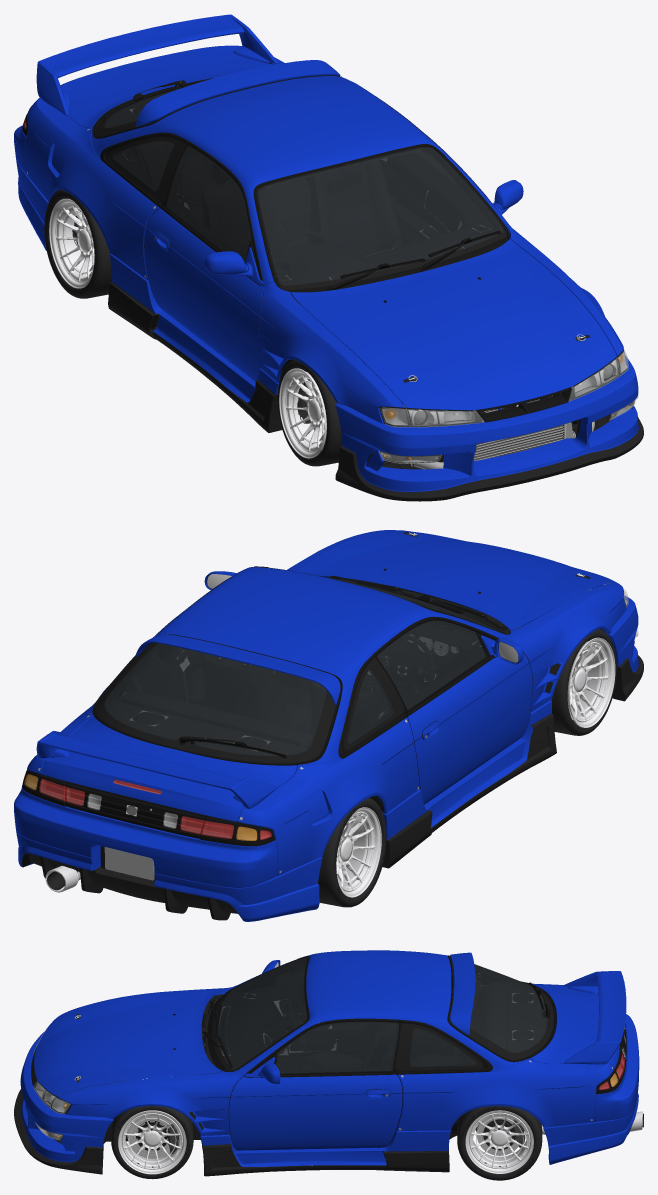
File: silvia_s14.glb
The picture shows the model from 3 angles, top to bottom: view 1: azimuth 30°, elevation 25°; view 2: azimuth 150°, elevation 25°; view 3: azimuth 270°, elevation 25°; orthographic projection. The views are drawn at different scales.
Parts seen in each view (by area): view 1: s14:M_CarPaint_Max, s14:M_Glass_WindowLeft_Max, s14:M_Interior_Max, s14:M_Opaque_PlasticRoughBlack_Max, s14:M_Glass_WindowSurround, s14:M_LGlass_InnerClear_Max, s14:M_Opaque_PlasticSmoothBlack_Max, Rim_FR, Rim_RR, s14:M_Chassis_Max, s14:M_LBucket_SetST_Max, polySurface36 (+1 smaller); view 2: s14:M_CarPaint_Max, s14:M_Glass_WindowLeft_Max, s14:M_Interior_Max, s14:M_Glass_WindowSurround, s14:M_Opaque_PlasticRoughBlack_Max, s14:M_Opaque_PlasticSmoothBlack_Max, Rim_FR, Rim_RR, s14:M_LGlass_InnerClear_Max, s14:M_LBucket_Max, polySurface36, polySurface30 (+5 smaller); view 3: s14:M_CarPaint_Max, s14:M_Glass_WindowLeft_Max, s14:M_Interior_Max, s14:M_Glass_WindowSurround, Rim_RL, Rim_FL, s14:M_Opaque_PlasticSmoothBlack_Max, polySurface35, s14:M_Opaque_PlasticRoughBlack_Max, polySurface15, s14:M_LGlass_InnerClear_Max, polySurface2 (+6 smaller).
Boxes of the visible parts, x1,y1,x2,y2 form: s14:M_CarPaint_Max: (14, 14, 643, 501); s14:M_Glass_WindowLeft_Max: (104, 88, 503, 285); s14:M_Interior_Max: (105, 91, 502, 367); s14:M_Opaque_PlasticRoughBlack_Max: (151, 144, 623, 423); s14:M_Glass_WindowSurround: (96, 79, 507, 290); s14:M_LGlass_InnerClear_Max: (23, 117, 638, 463); s14:M_Opaque_PlasticSmoothBlack_Max: (92, 75, 616, 411); Rim_FR: (279, 368, 326, 458); Rim_RR: (49, 198, 94, 288); s14:M_Chassis_Max: (55, 189, 612, 469); s14:M_LBucket_SetST_Max: (381, 350, 627, 426); polySurface36: (44, 189, 111, 298); s14:M_CarPaint_Max: (14, 530, 643, 921); s14:M_Glass_WindowLeft_Max: (104, 576, 500, 755); s14:M_Interior_Max: (105, 599, 489, 789); s14:M_Glass_WindowSurround: (96, 619, 503, 762); s14:M_Opaque_PlasticRoughBlack_Max: (65, 566, 623, 838); s14:M_Opaque_PlasticSmoothBlack_Max: (92, 568, 498, 765); Rim_FR: (567, 637, 615, 727); Rim_RR: (336, 807, 381, 897); s14:M_LGlass_InnerClear_Max: (23, 588, 638, 840); s14:M_LBucket_Max: (23, 774, 271, 840); polySurface36: (318, 797, 386, 907); polySurface30: (551, 629, 616, 735); s14:M_CarPaint_Max: (14, 950, 639, 1176); s14:M_Glass_WindowLeft_Max: (217, 958, 547, 1073); s14:M_Interior_Max: (218, 959, 546, 1147); s14:M_Glass_WindowSurround: (212, 956, 553, 1071); Rim_RL: (465, 1110, 533, 1173); Rim_FL: (118, 1110, 186, 1174); s14:M_Opaque_PlasticSmoothBlack_Max: (37, 955, 556, 1096); polySurface35: (457, 1106, 542, 1180); s14:M_Opaque_PlasticRoughBlack_Max: (31, 956, 626, 1163); polySurface15: (111, 1106, 193, 1179); s14:M_LGlass_InnerClear_Max: (33, 1028, 625, 1140); polySurface2: (127, 1116, 170, 1158).
Bounding box in the file's own units: 1.96 × 1.21 × 4.53.
Materials: 25 (10 with a texture image).
